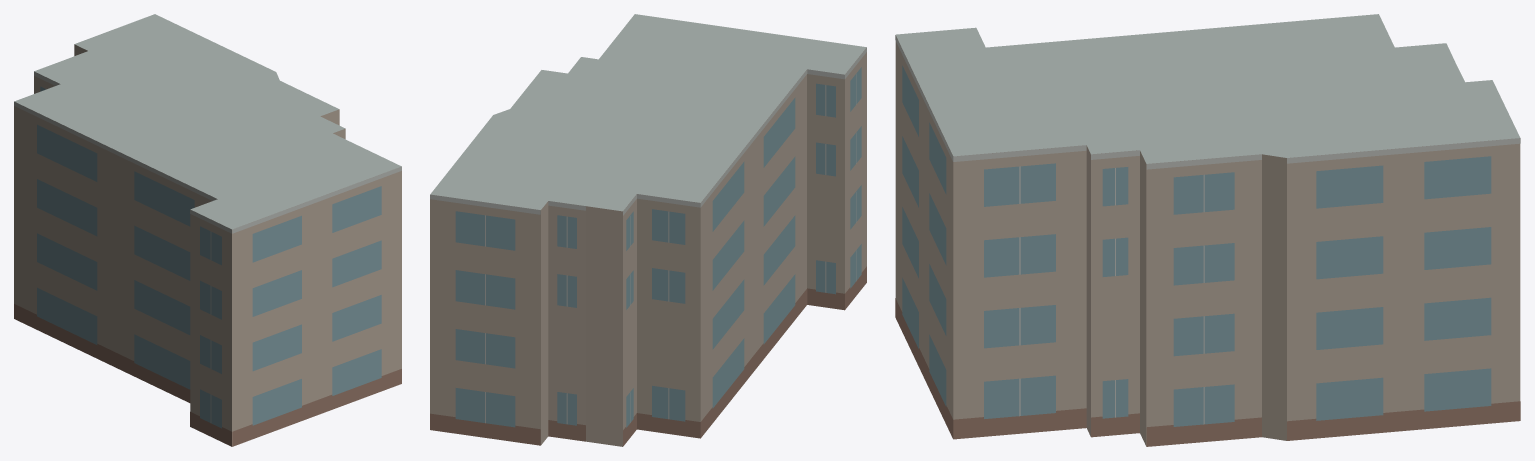
The model's file is residential-68aed1eb-be9b-42ca-95ef-a5860cc85186.glb.
3 renders of one model, left to right at view 1: azimuth 30°, elevation 25°; view 2: azimuth 150°, elevation 25°; view 3: azimuth 270°, elevation 25°, orthographic. The views are drawn at different scales.
Parts seen in each view (by area): view 1: residential-68aed1eb-be9b-42ca-95ef-a5860cc85186.tmp; view 2: residential-68aed1eb-be9b-42ca-95ef-a5860cc85186.tmp; view 3: residential-68aed1eb-be9b-42ca-95ef-a5860cc85186.tmp.
Part boxes in pixels (box(x1,y1,x2,y2)): residential-68aed1eb-be9b-42ca-95ef-a5860cc85186.tmp: box(14, 14, 401, 446); residential-68aed1eb-be9b-42ca-95ef-a5860cc85186.tmp: box(430, 14, 866, 446); residential-68aed1eb-be9b-42ca-95ef-a5860cc85186.tmp: box(895, 14, 1520, 446).
Size of the model in its own units: 13.88 by 12.2 by 24.44.
